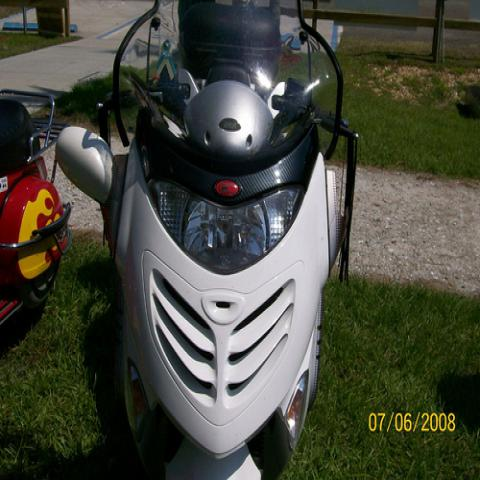motorcycle: (54, 1, 358, 438), (0, 78, 69, 367)
